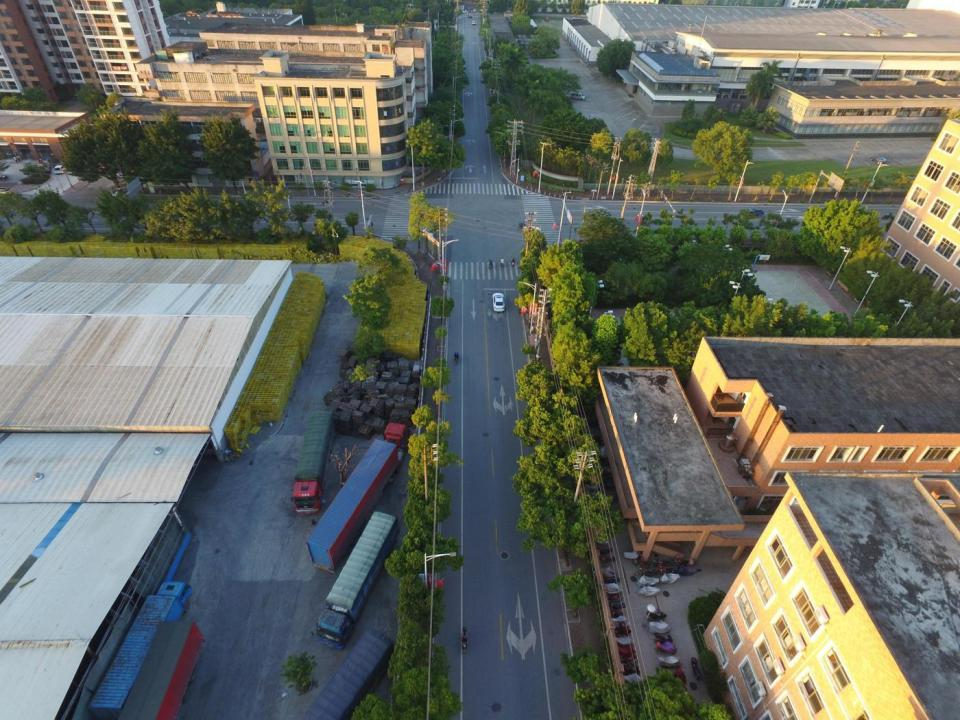car: (492, 292, 505, 312), (47, 158, 62, 168), (0, 187, 14, 197), (33, 166, 50, 174), (54, 163, 66, 174), (37, 162, 51, 169), (545, 16, 549, 22), (472, 20, 476, 25)
truck: (303, 422, 411, 572), (88, 580, 195, 711), (311, 510, 399, 650), (116, 618, 206, 720), (301, 628, 388, 720), (289, 406, 336, 514)
van: (570, 92, 586, 101), (505, 10, 511, 14)
